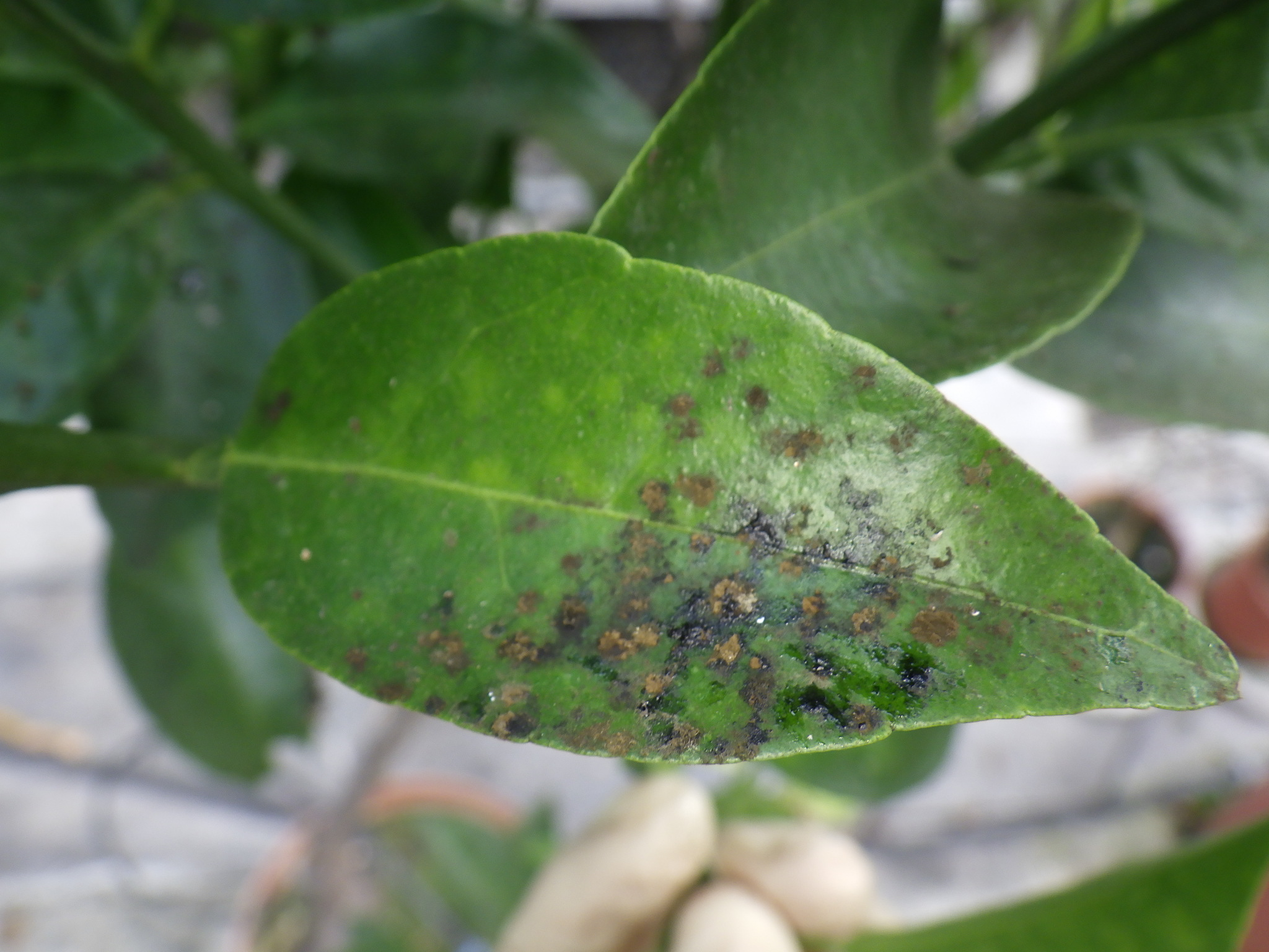Sooty_Mold: (221, 234, 1235, 762)
